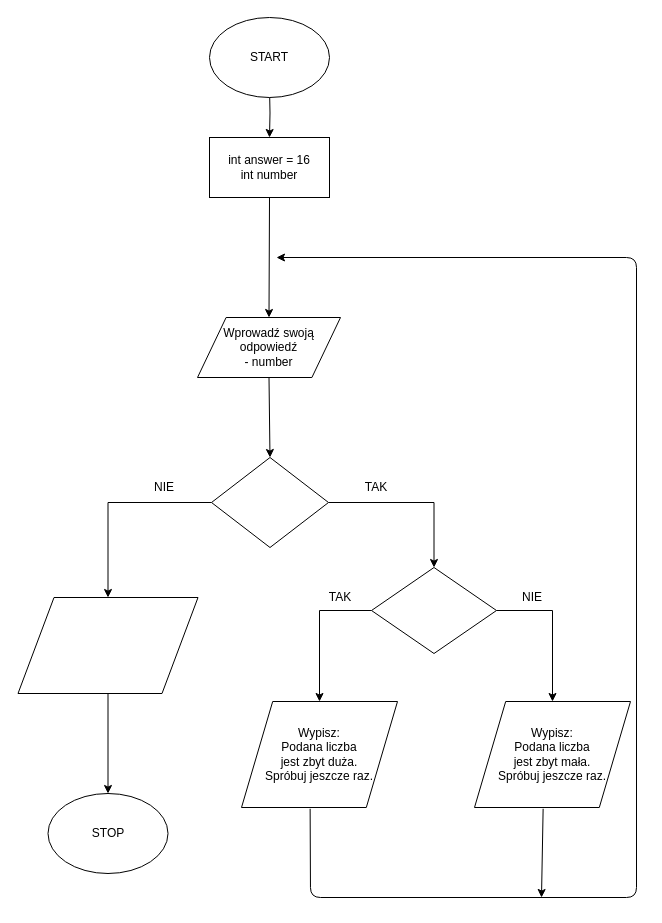
The diagram is 662 pixels wide and 923 high, and some of its shapes have lost their labels. Here are the shapes that lost their labels. From the top down, the box of each, then its label:
(210, 456, 328, 548): number != answer
(370, 566, 496, 654): number > answer
(17, 596, 198, 694): Wypisz: Gratulacje! Zgadłeś liczbę!
